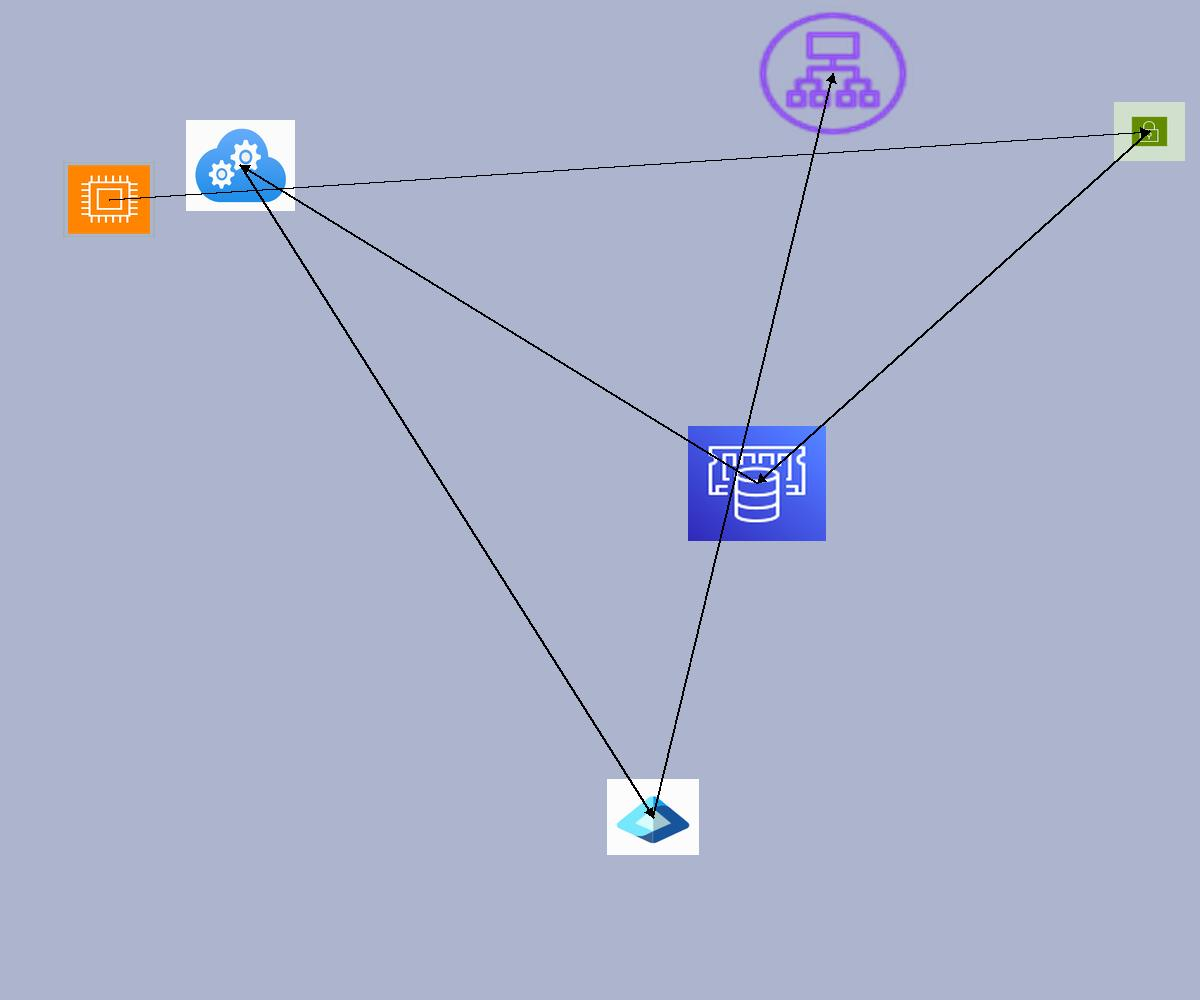AWS-Category_Compute: (63, 161, 155, 238)
AWS-ElastiCache: (688, 426, 826, 541)
AWS-Public-subnet: (1114, 102, 1185, 161)
AWS-Res_Elastic-Load-Balancing_Application-Load-Balancer: (753, 7, 913, 140)
Azure_cloud_services: (186, 120, 295, 211)
Azure_microsoft_entra: (607, 779, 699, 855)
